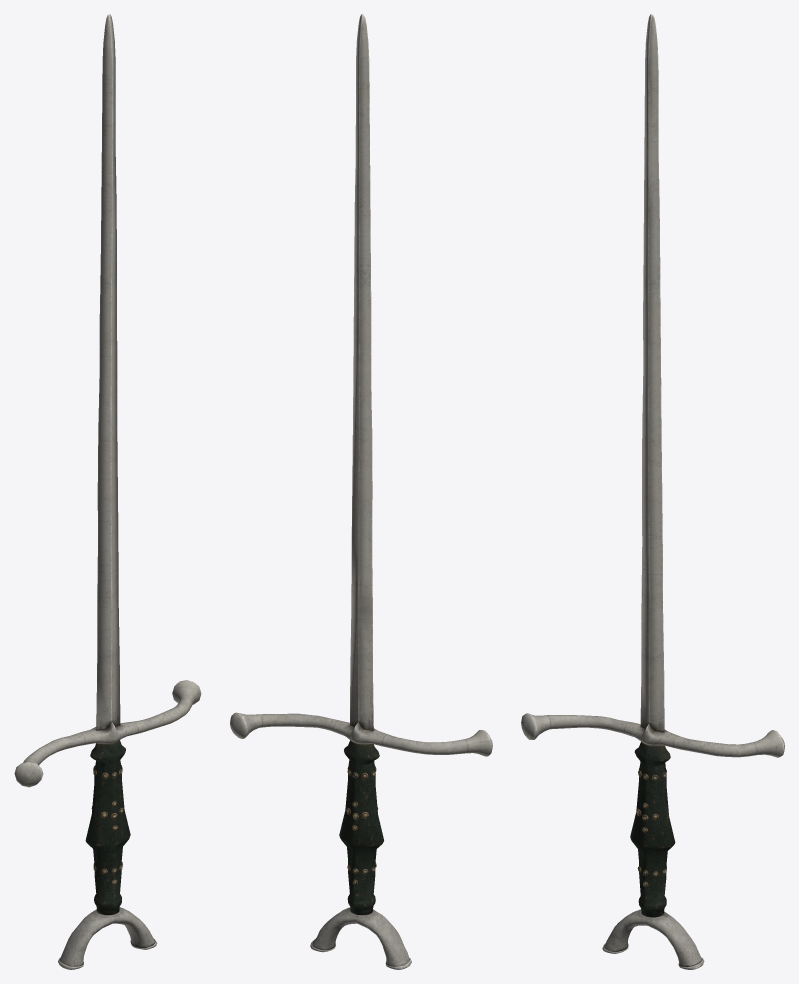
File: antique_estoc.glb
The picture shows the model from 3 angles, left to right: view 1: azimuth 30°, elevation 25°; view 2: azimuth 150°, elevation 25°; view 3: azimuth 330°, elevation 25°; orthographic projection.
Visible parts, largest first — view 1: antique_estoc; view 2: antique_estoc; view 3: antique_estoc.
Part boxes in pixels (<box>): antique_estoc: <box>14,14,201,969</box>; antique_estoc: <box>230,14,492,969</box>; antique_estoc: <box>521,14,784,969</box>.
Size of the model in its own units: 0.3715 by 1.49 by 0.1491.
Materials: 1 (1 with a texture image).
